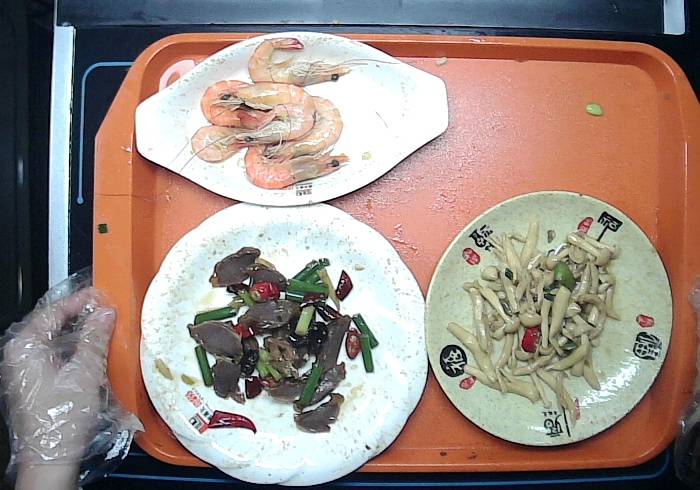NLDX-Bai_Zhe_Yuan_Pan: (138, 197, 433, 490)
NLDX-Fu_Zi_Yuan_Pan: (420, 186, 676, 447)
NLDX-Yu_Pan: (132, 29, 452, 210)
